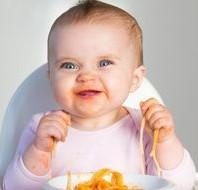Healthy: (47, 20, 145, 116)
